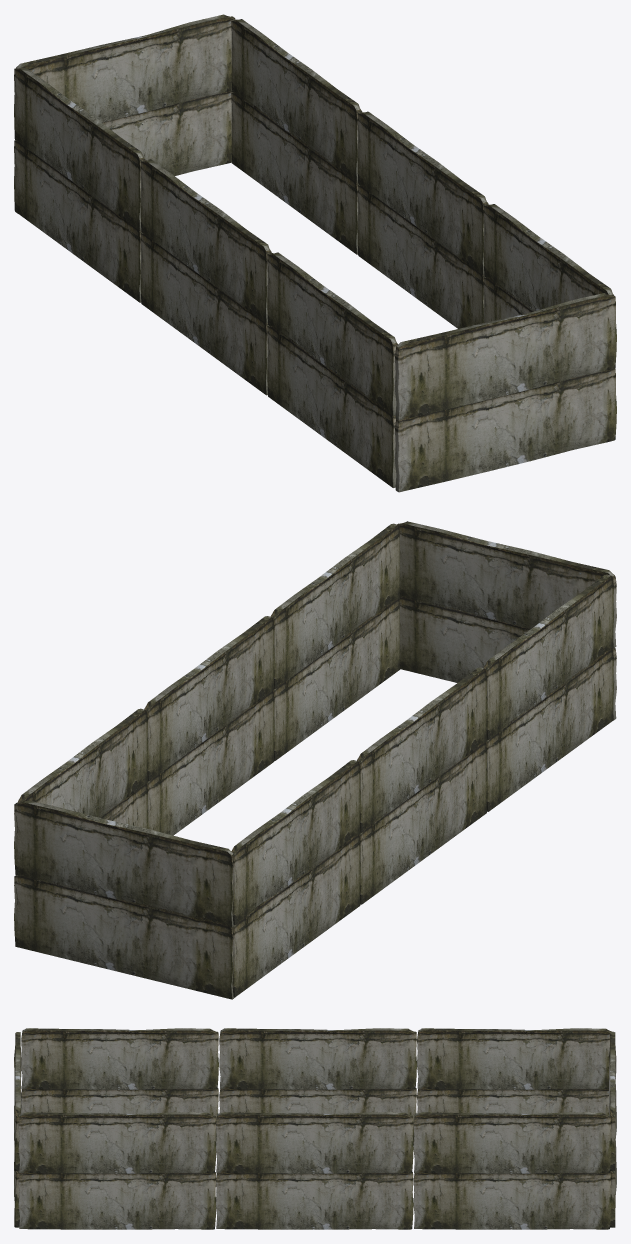
The model's file is room.glb.
3 views of the same model, one above another, from view 1: azimuth 30°, elevation 25°; view 2: azimuth 150°, elevation 25°; view 3: azimuth 270°, elevation 25° (orthographic). The views are drawn at different scales.
Visible parts, largest first — view 1: Cube.005, Cube.006, Cube.012, Cube.003, Cube.016, Cube.011, Cube.015, Cube.008, Cube.004, Cube.010, Cube.014, Cube.001 (+4 smaller); view 2: Cube.012, Cube.002, Cube.005, Cube.015, Cube.016, Cube.011, Cube.003, Cube.007, Cube.001, Cube.004, Cube.014, Cube.009 (+4 smaller); view 3: Cube.003, Cube.016, Cube.015, Cube.008, Cube.007, Cube.011, Cube.013, Cube.010, Cube.009, Cube.014, Cube.004, Cube.001 (+4 smaller).
Boxes of the visible parts, <box> form: Cube.005: <box>394,293,616,420</box>; Cube.006: <box>394,368,616,492</box>; Cube.012: <box>16,14,235,122</box>; Cube.003: <box>267,252,397,416</box>; Cube.016: <box>140,159,271,323</box>; Cube.011: <box>14,67,145,230</box>; Cube.015: <box>357,111,488,275</box>; Cube.008: <box>231,19,362,182</box>; Cube.004: <box>267,325,396,487</box>; Cube.010: <box>231,92,358,254</box>; Cube.014: <box>140,233,268,395</box>; Cube.001: <box>14,140,141,302</box>; Cube.012: <box>14,800,234,927</box>; Cube.002: <box>14,875,234,999</box>; Cube.005: <box>397,521,616,648</box>; Cube.015: <box>144,616,274,781</box>; Cube.016: <box>357,667,487,832</box>; Cube.011: <box>231,760,360,925</box>; Cube.003: <box>483,574,613,739</box>; Cube.007: <box>270,523,399,688</box>; Cube.001: <box>232,833,360,997</box>; Cube.004: <box>486,648,613,811</box>; Cube.014: <box>360,741,487,904</box>; Cube.009: <box>273,597,400,760</box>; Cube.003: <box>21,1028,218,1089</box>; Cube.016: <box>219,1028,416,1089</box>; Cube.015: <box>216,1112,413,1173</box>; Cube.008: <box>413,1112,611,1173</box>; Cube.007: <box>18,1112,216,1173</box>; Cube.011: <box>417,1028,613,1089</box>; Cube.013: <box>216,1170,413,1229</box>; Cube.010: <box>413,1170,611,1229</box>; Cube.009: <box>18,1170,215,1229</box>; Cube.014: <box>219,1086,416,1145</box>; Cube.004: <box>21,1086,218,1140</box>; Cube.001: <box>417,1086,608,1115</box>.
Bounding box in the file's own units: 5.92 × 3.78 × 17.68.
Materials: 1 (1 with a texture image).
